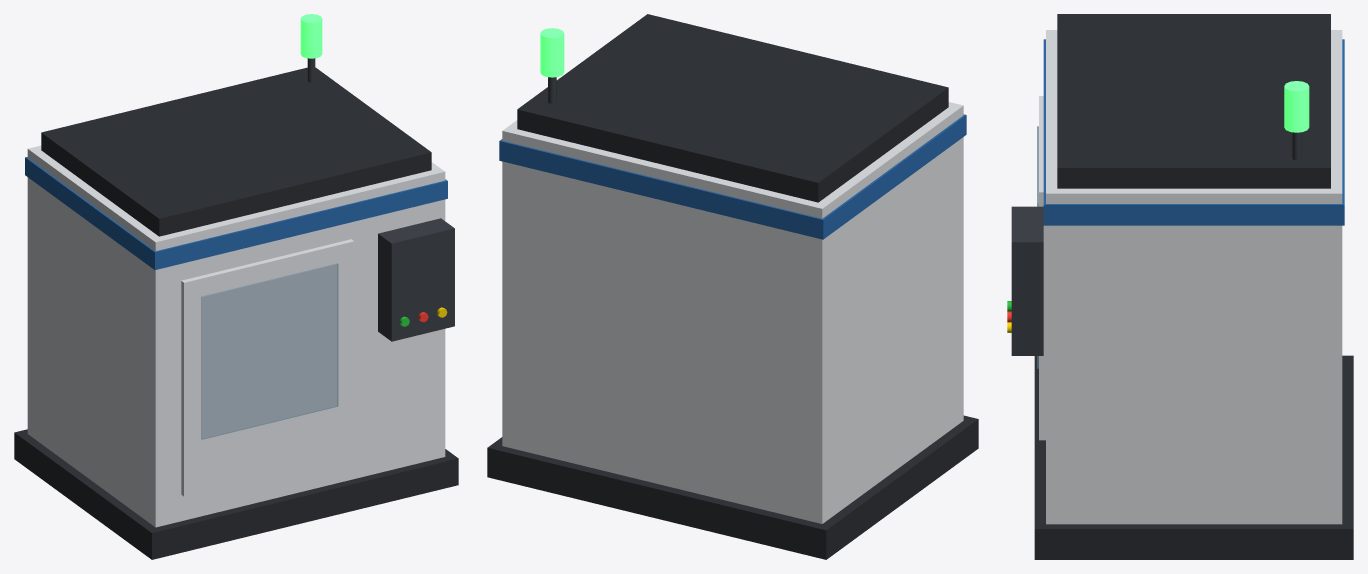
The model's file is maquina.glb.
3 renders of one model, left to right at view 1: azimuth 30°, elevation 25°; view 2: azimuth 150°, elevation 25°; view 3: azimuth 270°, elevation 25°, orthographic. The views are drawn at different scales.
Parts seen in each view (by area): view 1: chassi, porta, luz; view 2: chassi, luz; view 3: chassi, porta, luz.
Boxes of the visible parts, x1,y1,x2,y2 form: chassi: [14, 58, 458, 559]; porta: [181, 239, 354, 496]; luz: [300, 14, 322, 58]; chassi: [487, 14, 978, 559]; luz: [540, 28, 564, 77]; chassi: [1007, 14, 1353, 559]; porta: [1037, 96, 1045, 440]; luz: [1284, 81, 1309, 132].
Bounding box in the file's own units: 1.8 × 2.2 × 1.52.
